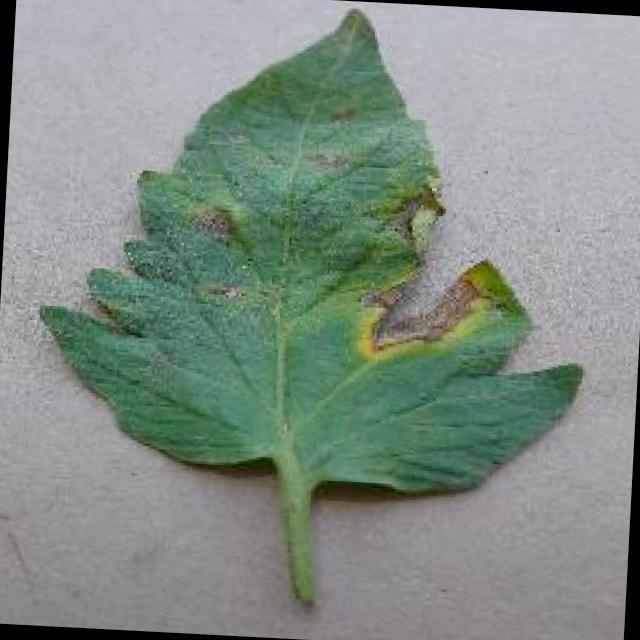Tomato Early blight leaf: (30, 0, 600, 501)
